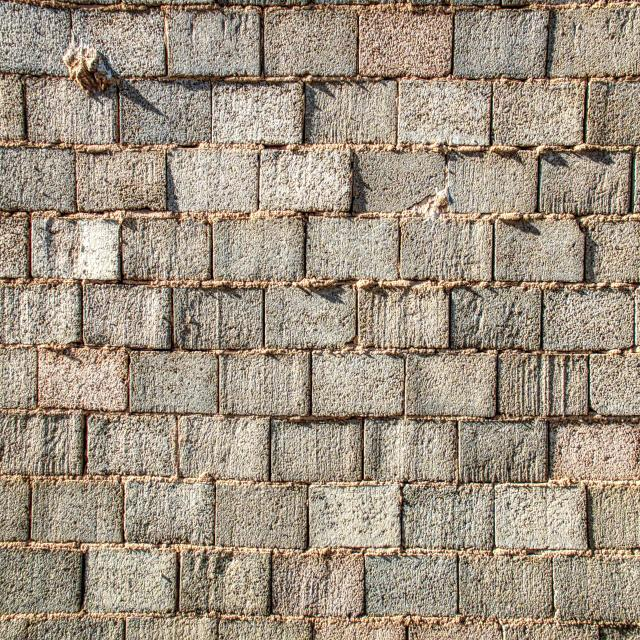Concrete: (2, 0, 638, 636)
